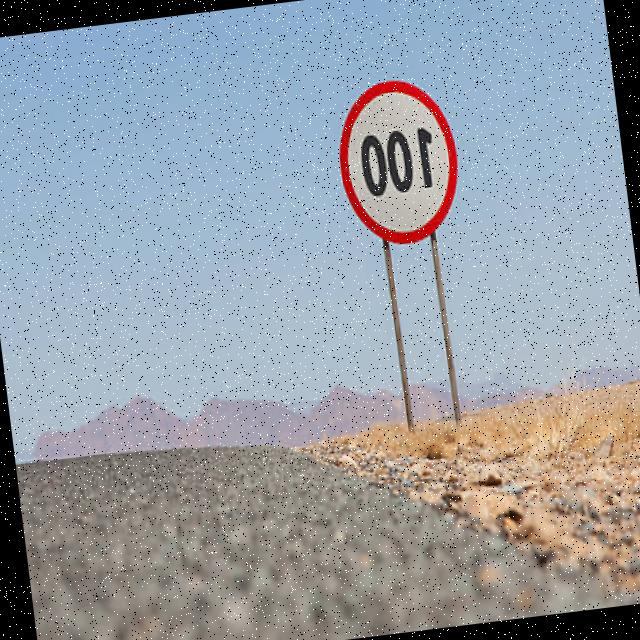speed_limit_100: (322, 54, 482, 256)
